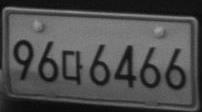4: (112, 45, 137, 88)
6: (164, 47, 187, 90), (89, 43, 111, 86), (139, 45, 161, 88), (37, 40, 59, 82)
9: (12, 38, 35, 81)
다: (60, 49, 83, 85)
